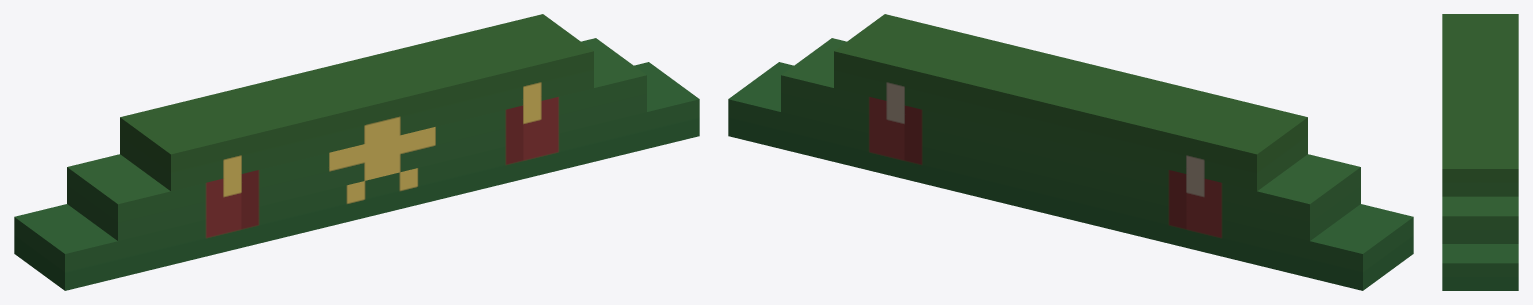
The model's file is Spine070.fbx.
The picture shows the model from 3 angles, left to right: view 1: azimuth 30°, elevation 25°; view 2: azimuth 150°, elevation 25°; view 3: azimuth 270°, elevation 25°; orthographic projection. The views are drawn at different scales.
Visible parts, largest first — view 1: Spine070; view 2: Spine070; view 3: Spine070.
Part boxes in pixels (<box>): Spine070: <box>14,14,699,290</box>; Spine070: <box>728,14,1413,290</box>; Spine070: <box>1442,14,1518,290</box>.
Size of the model in its own units: 36 by 6 by 5.
